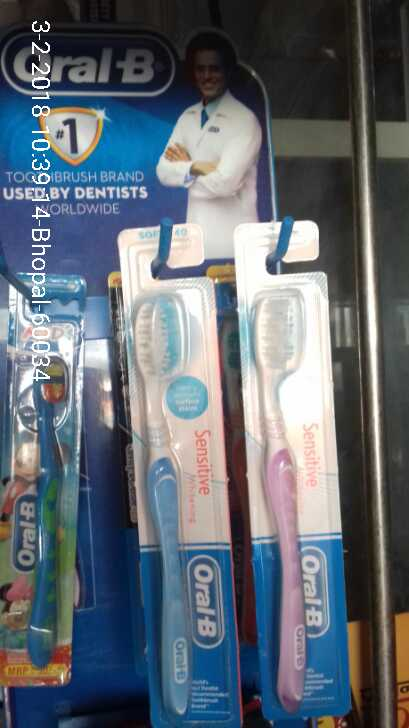oralb: (131, 278, 236, 728), (249, 275, 341, 722), (1, 278, 79, 683)
